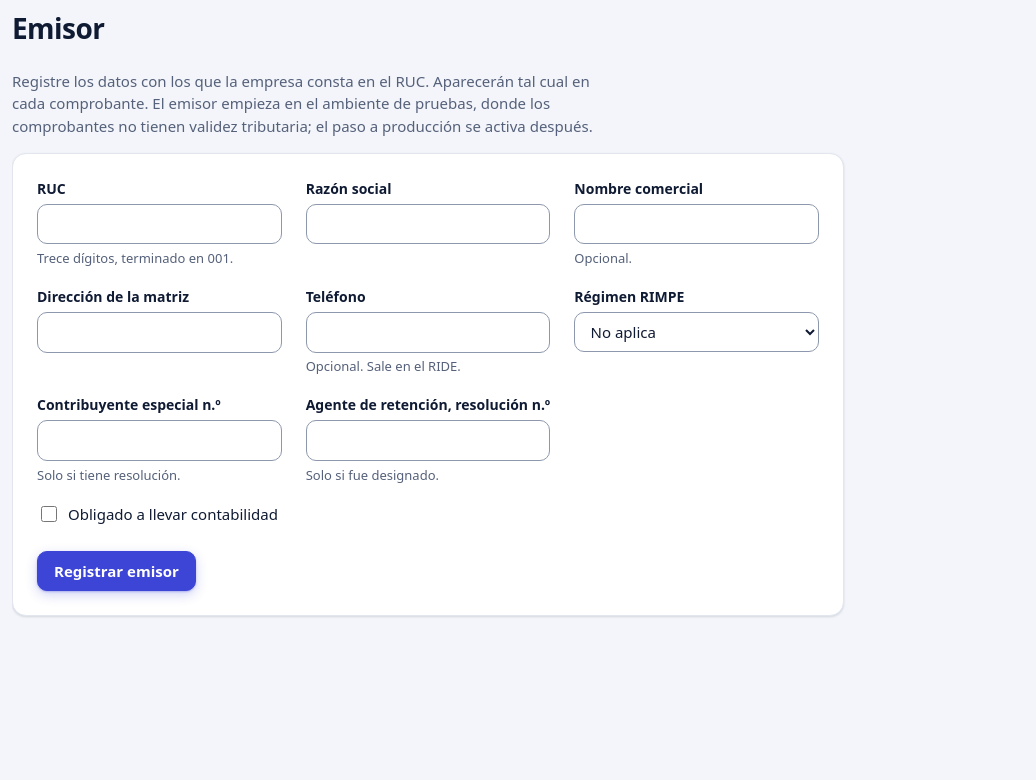
Scenario: Emisor › shows the server's rejection next to the form and keeps what was typed
In the field labelled "RUC": (159, 224) [37,204,282,244], type "1790012345001"
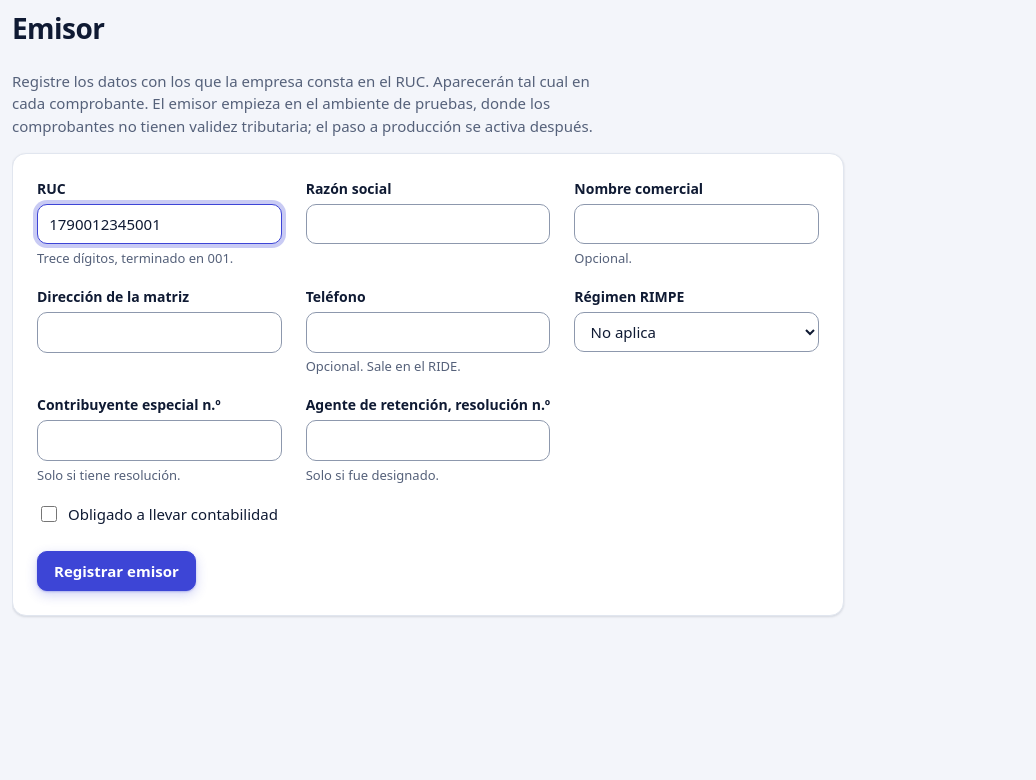
In the field labelled "Razón social": (428, 224) [306,204,550,244], type "Comercial Andina S.A."
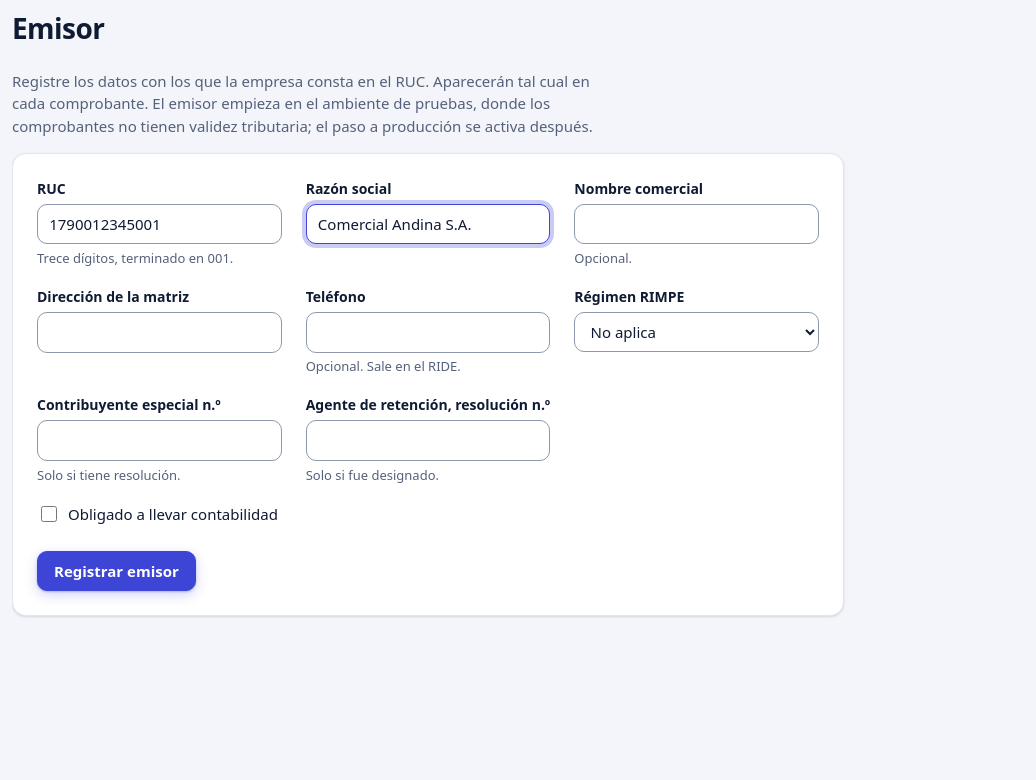
In the field labelled "Dirección de la matriz": (159, 332) [37,312,282,353], type "Av. Amazonas N34-12, Quito"
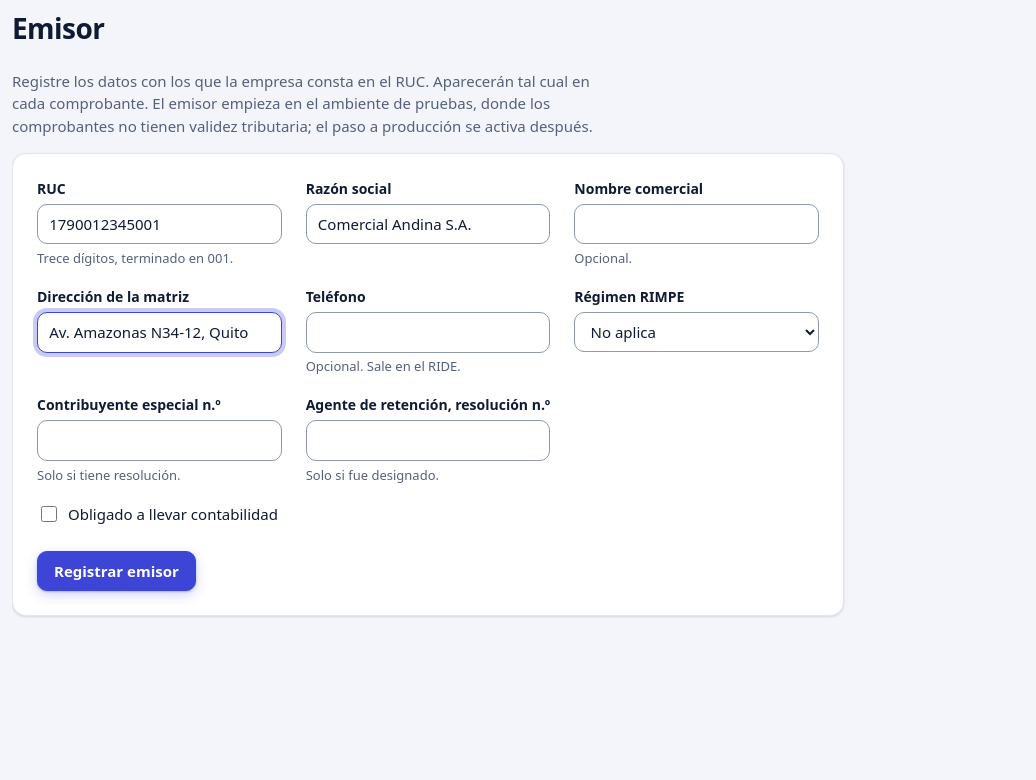
Click the button "Registrar emisor": (116, 571) [37,551,196,591]
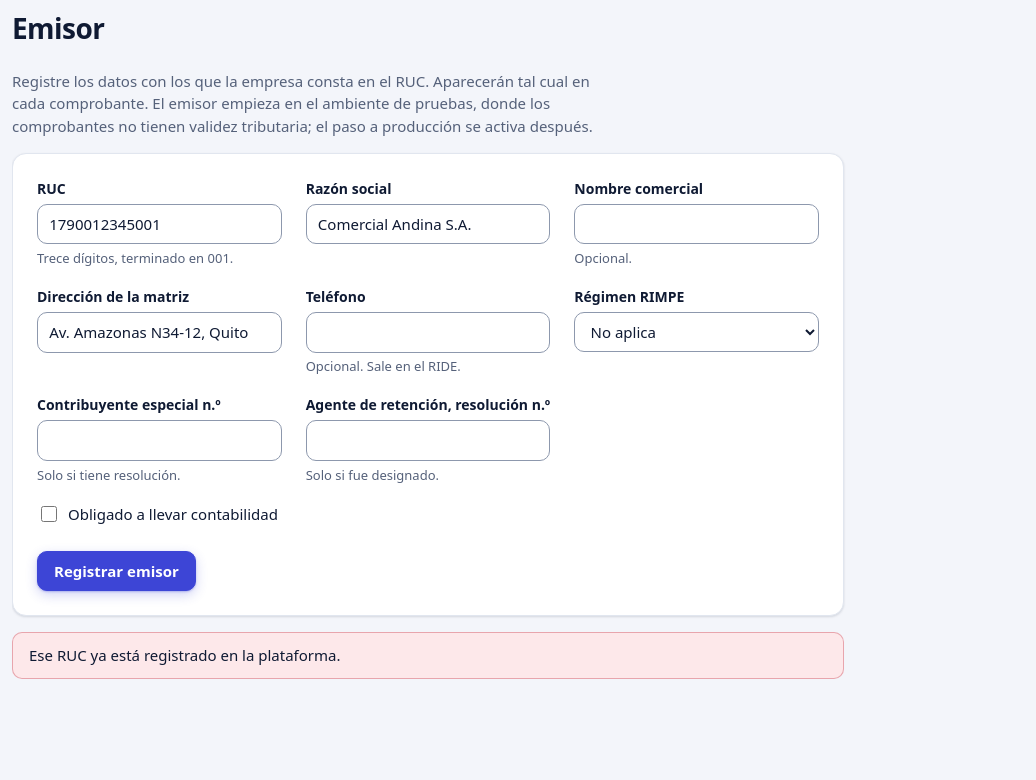
Result: the message reads "Ese RUC ya está registrado en la plataforma." at [29,645,340,665]
